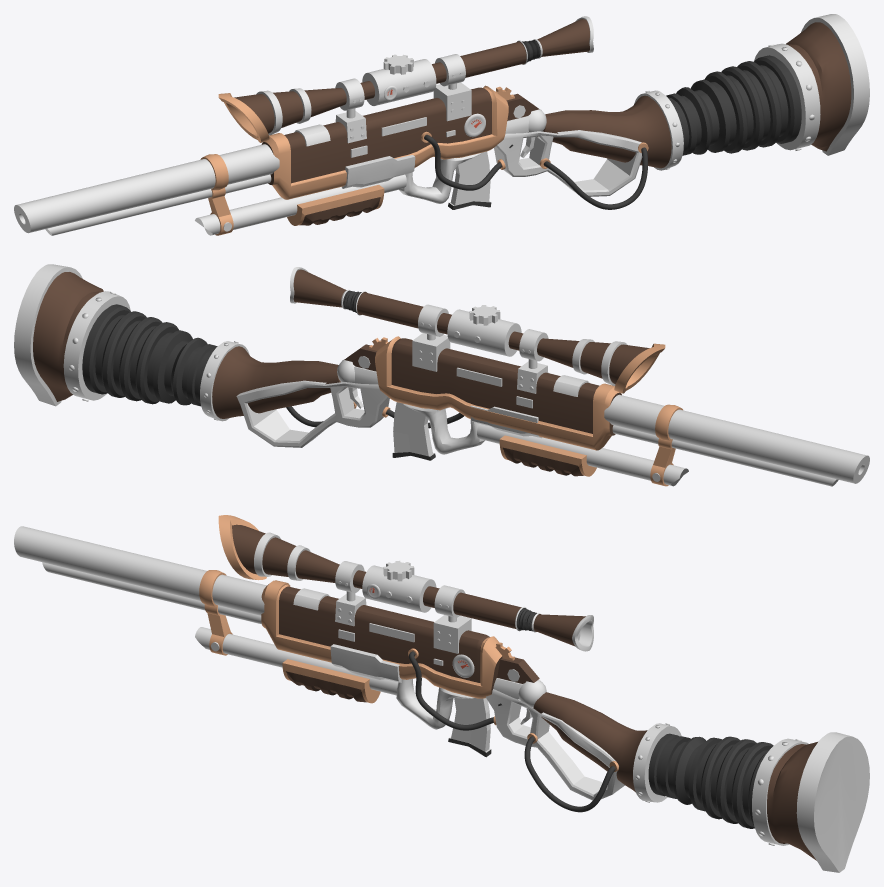
The model's file is 3steampunk gun.fbx.
The picture shows the model from 3 angles, top to bottom: view 1: azimuth 30°, elevation 25°; view 2: azimuth 150°, elevation 25°; view 3: azimuth 330°, elevation 25°; orthographic projection.
Visible parts, largest first — view 1: Circle.001, Circle, Cube.004, Cube.007, Circle.002, Cube.003, Circle.005, Cube.005, Circle.004, Cube.001, NurbsPath.001, NurbsPath (+3 smaller); view 2: Circle.001, Cube.004, Circle, Cube.007, Circle.002, Cube.003, Cube.005, Circle.004, Cube.001, Sphere, Circle.005, Cube.002 (+1 smaller); view 3: Circle.001, Circle, Cube.004, Cube.007, Circle.002, Cube.003, Circle.005, Cube.005, Circle.004, Cube.001, NurbsPath.001, Sphere (+2 smaller).
Boxes of the visible parts, x1,y1,x2,y2 form: Circle.001: (14, 14, 869, 235); Circle: (218, 16, 593, 142); Cube.004: (261, 85, 508, 199); Cube.007: (494, 130, 642, 196); Circle.002: (287, 185, 384, 225); Cube.003: (448, 151, 491, 209); Circle.005: (342, 155, 415, 188); Cube.005: (399, 153, 480, 203); Circle.004: (200, 154, 233, 235); Cube.001: (433, 82, 471, 121); NurbsPath.001: (543, 147, 647, 209); NurbsPath: (424, 134, 502, 190); Circle.001: (14, 264, 869, 486); Cube.004: (375, 336, 621, 450); Circle: (290, 267, 665, 393); Cube.007: (236, 380, 389, 447); Circle.002: (499, 435, 596, 476); Cube.003: (392, 402, 435, 460); Cube.005: (403, 403, 484, 454); Circle.004: (650, 404, 682, 486); Cube.001: (412, 333, 450, 371); Sphere: (337, 360, 378, 384); Circle.005: (470, 405, 541, 438); Cube.002: (517, 361, 548, 393); Circle.001: (14, 526, 869, 872); Circle: (218, 515, 593, 651); Cube.004: (261, 580, 502, 698); Cube.007: (486, 689, 624, 800); Circle.002: (282, 659, 380, 703); Cube.003: (448, 698, 491, 757); Circle.005: (330, 644, 401, 682); Cube.005: (396, 679, 474, 729); Circle.004: (199, 570, 232, 655); Cube.001: (433, 615, 471, 653); NurbsPath.001: (524, 736, 615, 812); Sphere: (493, 678, 546, 707).
Size of the model in its own units: 470 by 112 by 56.21.
